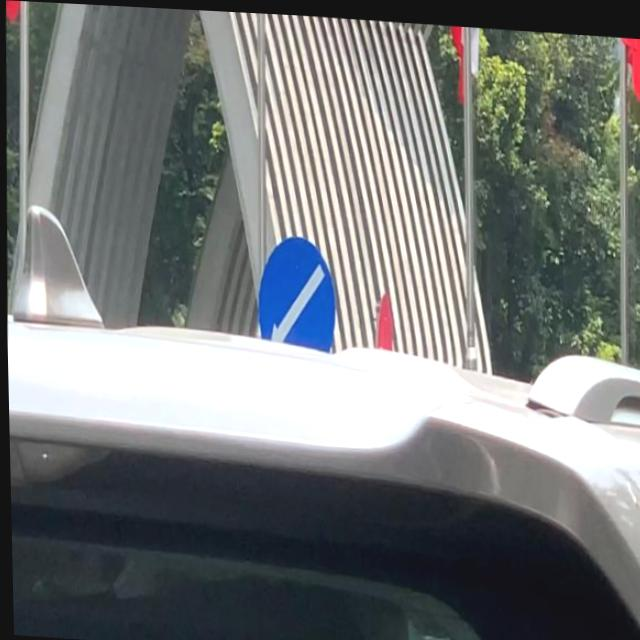Vong chuong ngai vat sang trai: (253, 229, 336, 376)
